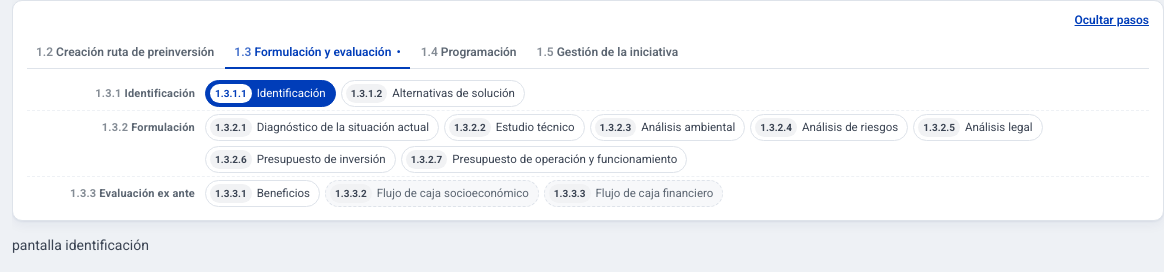
Test case: PasosProyectoLayout · árbol del sistema › navega al hacer clic en otro paso
The image size is (1164, 272).
Click the link "1.3.1.2 Alternativas de solución" at (433, 94), box x1=341 y1=80 x2=525 y2=107
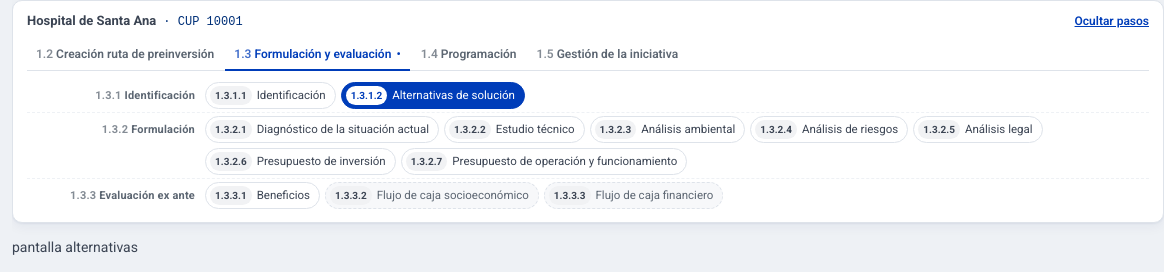
Now the text "pantalla alternativas" is shown, box x1=12 y1=239 x2=138 y2=255
